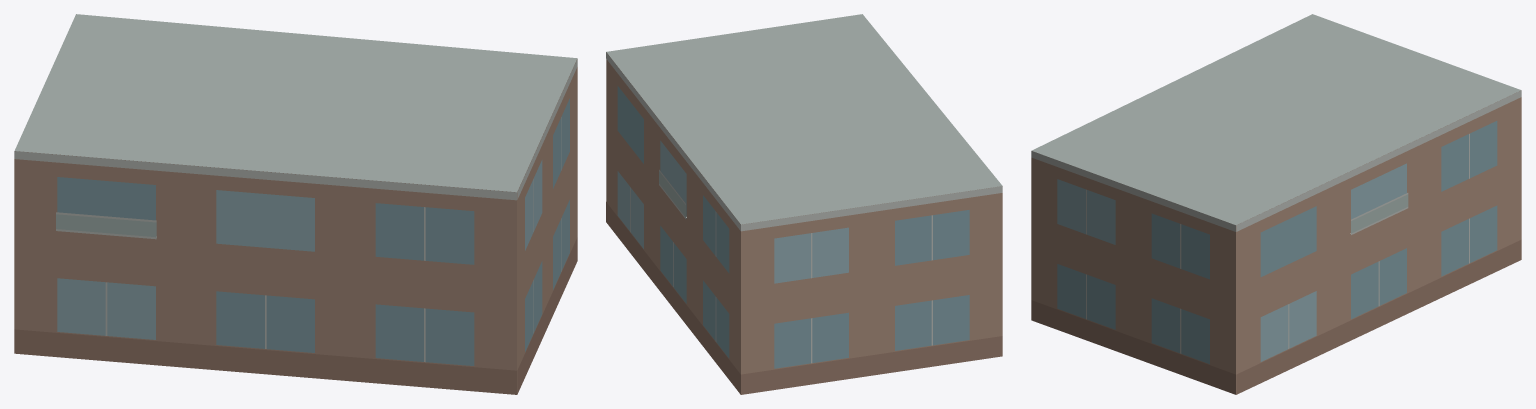
File: survey-upis-32660292.glb
3 views of the same model, side by side, from view 1: azimuth 30°, elevation 25°; view 2: azimuth 150°, elevation 25°; view 3: azimuth 270°, elevation 25° (orthographic). The views are drawn at different scales.
Parts seen in each view (by area): view 1: survey-upis-32660292.tmp; view 2: survey-upis-32660292.tmp; view 3: survey-upis-32660292.tmp.
Part boxes in pixels (x1,y1,x2,y2): survey-upis-32660292.tmp: (14,14,577,394); survey-upis-32660292.tmp: (606,14,1002,394); survey-upis-32660292.tmp: (1031,14,1521,394).
Bounding box in the file's own units: 16.31 × 6.1 × 15.99.
